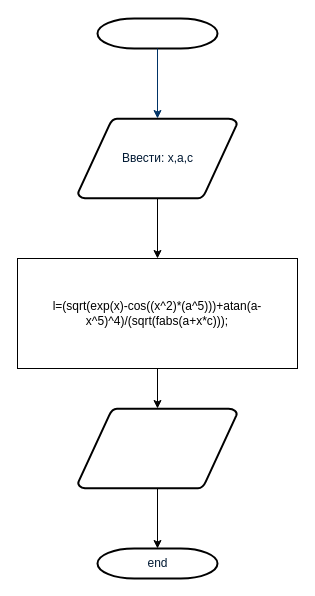
This 315x596 diagram has some shape labels left out. Here are the shapes that lost their labels. From the top down, the box of each, then its label:
(96, 17, 218, 49): start
(76, 407, 238, 489): Вивести: l
